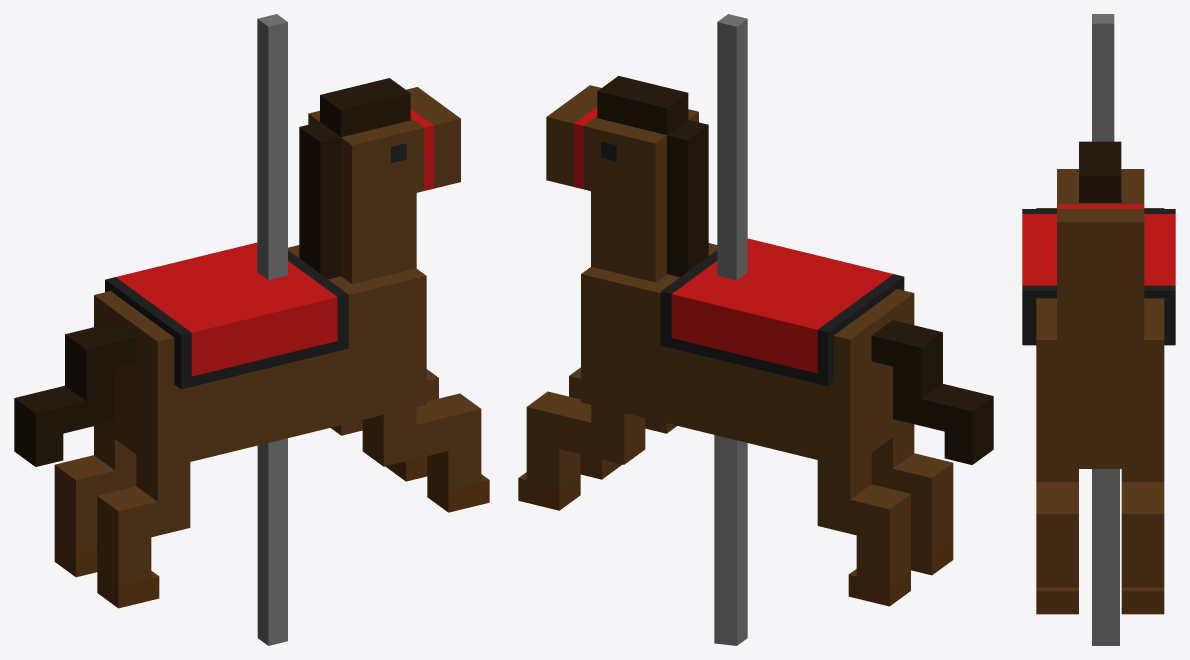
The model's file is 회전목마 2.fbx.
The picture shows the model from 3 angles, left to right: view 1: azimuth 30°, elevation 25°; view 2: azimuth 150°, elevation 25°; view 3: azimuth 270°, elevation 25°; orthographic projection.
Visible parts, largest first — view 1: Box005; view 2: Box005; view 3: Box005.
Boxes of the visible parts, x1=… form: Box005: x1=14, y1=14, x2=489, y2=645; Box005: x1=518, y1=14, x2=993, y2=645; Box005: x1=1022, y1=14, x2=1175, y2=645.
Bounding box in the file's own units: 50.33 × 68.83 × 15.34.
1 material, 1 textured.
